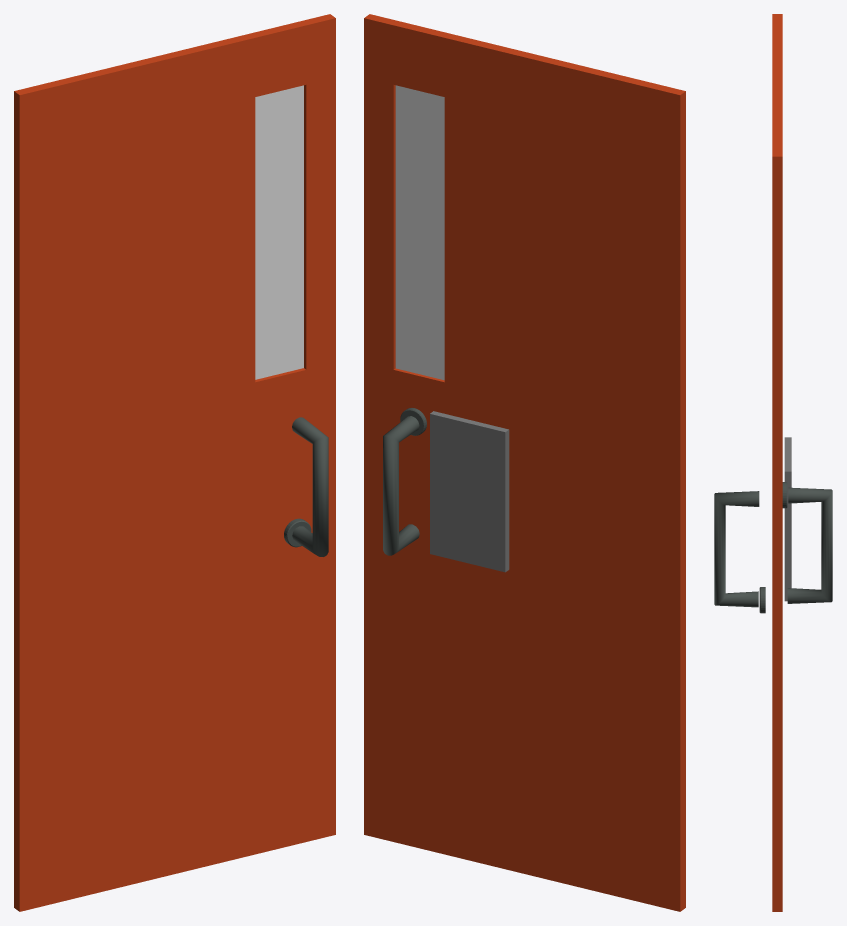
The model's file is EntryDoorRight.fbx.
3 renders of one model, left to right at view 1: azimuth 30°, elevation 25°; view 2: azimuth 150°, elevation 25°; view 3: azimuth 270°, elevation 25°, orthographic. The views are drawn at different scales.
Visible parts, largest first — view 1: 門面2, 視窗2, 把手4; view 2: 門面2, 視窗2, 立牌2, 把手2; view 3: 門面2, 把手2, 把手4, 立牌2.
Boxes of the visible parts, x1=… form: 門面2: x1=14, y1=14, x2=335, y2=911; 視窗2: x1=255, y1=85, x2=303, y2=379; 把手4: x1=292, y1=417, x2=328, y2=556; 門面2: x1=364, y1=14, x2=685, y2=911; 視窗2: x1=395, y1=85, x2=444, y2=380; 立牌2: x1=430, y1=411, x2=509, y2=572; 把手2: x1=383, y1=416, x2=419, y2=555; 門面2: x1=772, y1=14, x2=782, y2=911; 把手2: x1=787, y1=487, x2=832, y2=603; 把手4: x1=714, y1=491, x2=759, y2=607; 立牌2: x1=784, y1=437, x2=791, y2=601.
Size of the model in its own units: 83.96 by 29.37 by 207.
